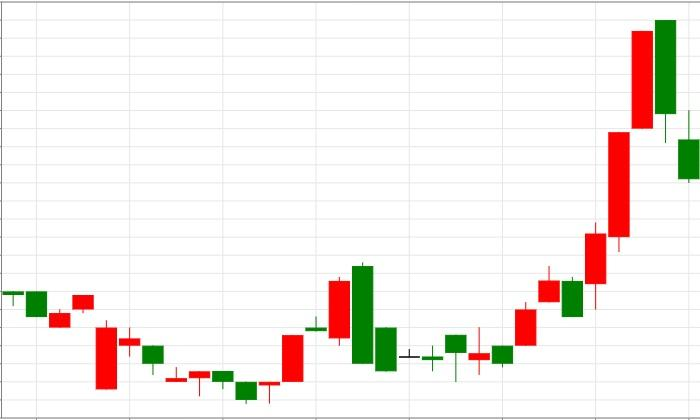bearish_engulfing_fall: (468, 19, 677, 375), (235, 263, 373, 405)
